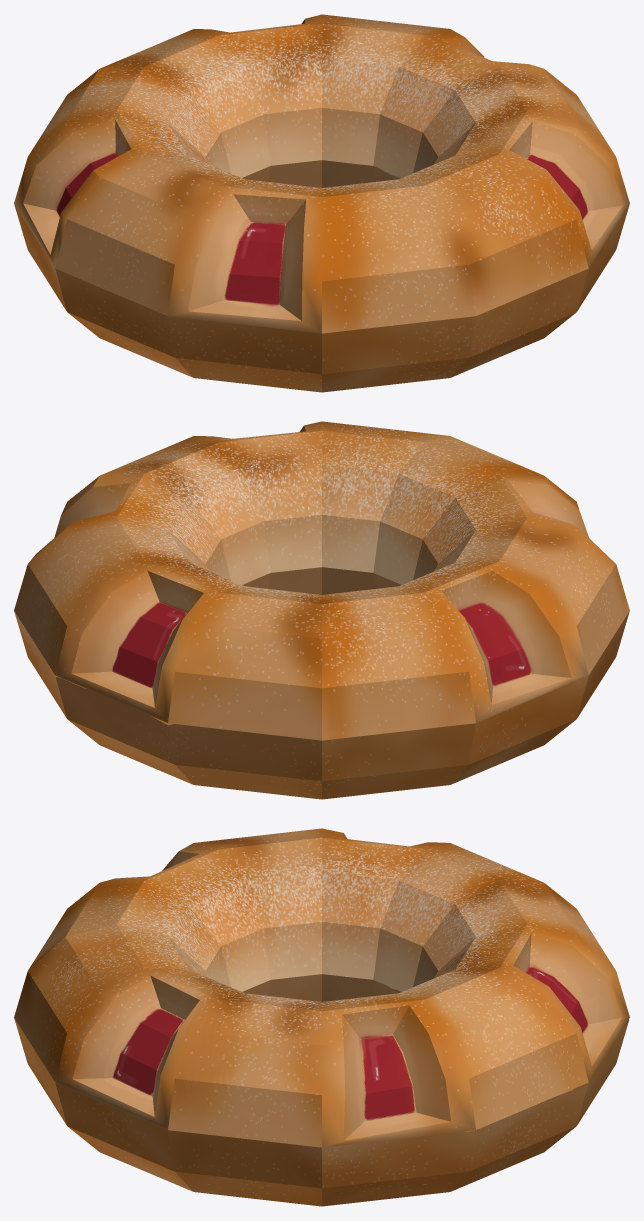
File: Roscon.fbx
3 renders of one model, top to bottom at view 1: azimuth 30°, elevation 25°; view 2: azimuth 150°, elevation 25°; view 3: azimuth 270°, elevation 25°, orthographic.
Visible parts, largest first — view 1: pTorus1; view 2: pTorus1; view 3: pTorus1.
Part boxes in pixels (<box>): pTorus1: <box>14,14,629,392</box>; pTorus1: <box>14,421,629,799</box>; pTorus1: <box>14,828,629,1206</box>.
Size of the model in its own units: 52.36 by 17.45 by 52.36.
1 material, 1 textured.
